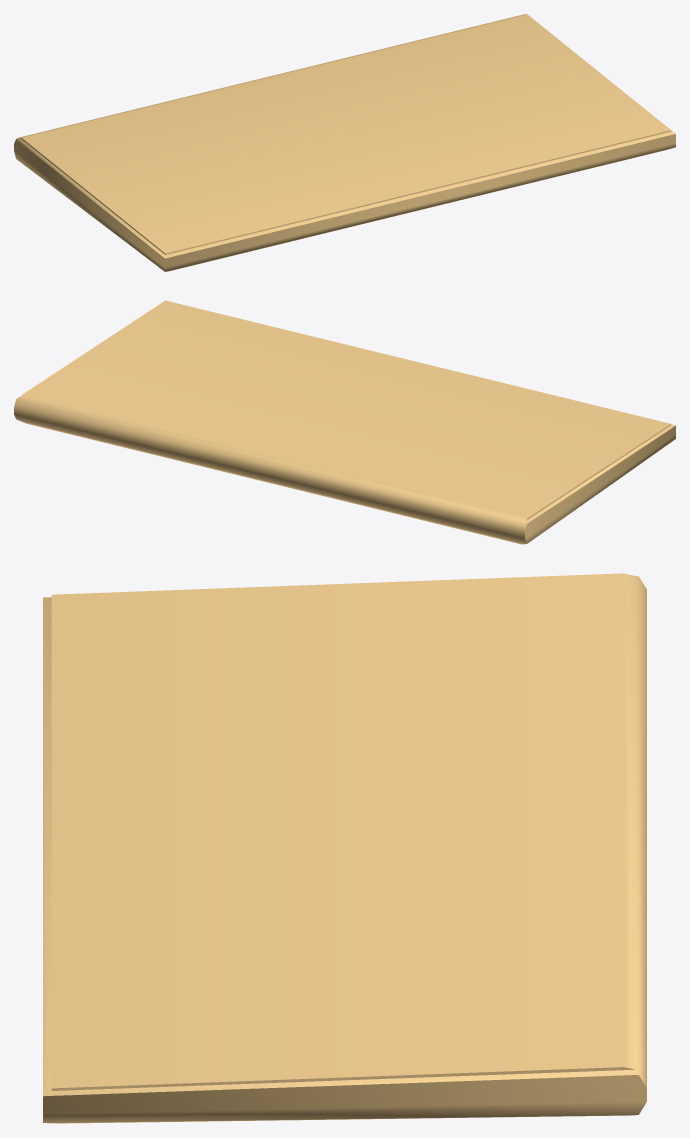
Rendered from Keyboard.FBX.
3 views of the same model, one above another, from view 1: azimuth 30°, elevation 25°; view 2: azimuth 150°, elevation 25°; view 3: azimuth 270°, elevation 25° (orthographic). The views are drawn at different scales.
Visible parts, largest first — view 1: Box001; view 2: Box001; view 3: Box001.
Boxes of the visible parts, left/top/right/bottom form: Box001: left=14, top=14, right=675, bottom=271; Box001: left=14, top=300, right=675, bottom=544; Box001: left=43, top=573, right=646, bottom=1123.
Bounding box in the file's own units: 0.4 × 0.023 × 0.2048.
